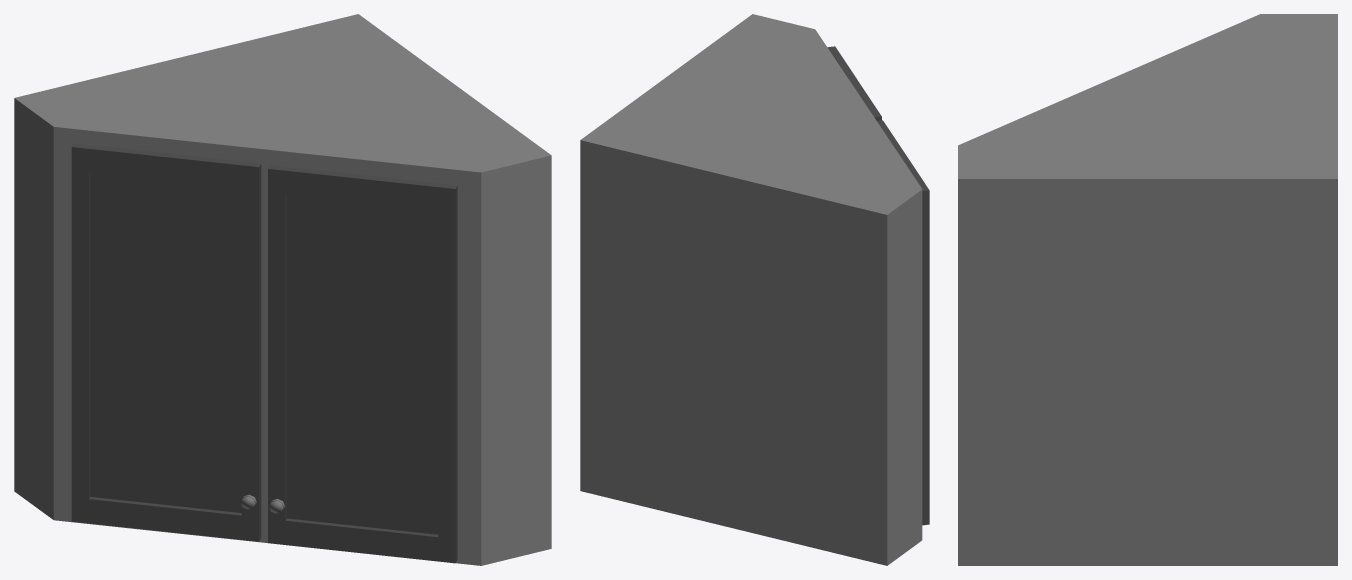
Rendered from CornerUpperCabinets.fbx.
3 renders of one model, left to right at view 1: azimuth 30°, elevation 25°; view 2: azimuth 150°, elevation 25°; view 3: azimuth 270°, elevation 25°, orthographic. The views are drawn at different scales.
Visible parts, largest first — view 1: Cube; view 2: Cube; view 3: Cube.
Boxes of the visible parts, x1,y1,x2,y2 form: Cube: (14,14,551,565); Cube: (580,14,929,565); Cube: (958,14,1337,565).
Size of the model in its own units: 59.5 by 65 by 57.84.
Materials: 2 (1 with a texture image).
